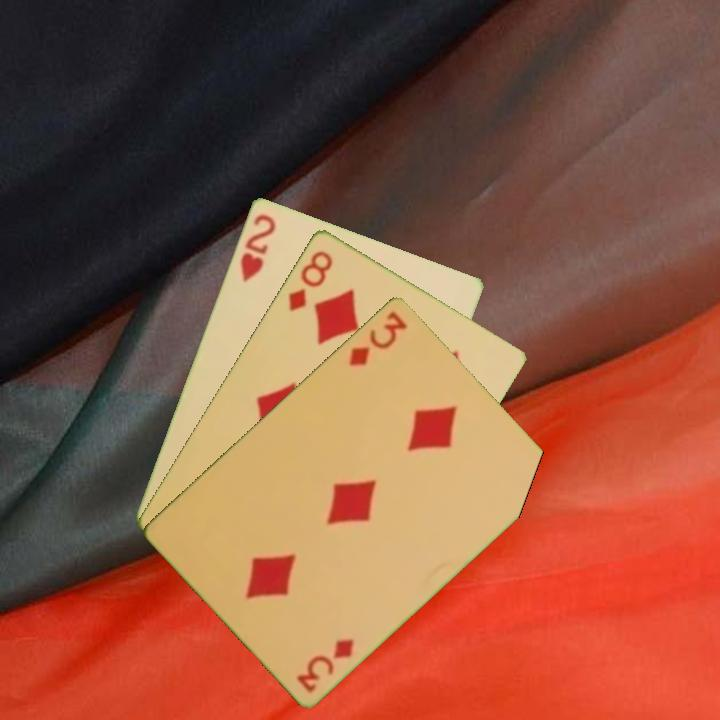2h: (236, 210, 278, 284)
3d: (345, 307, 410, 369), (292, 634, 357, 695)
8d: (284, 246, 336, 314)
